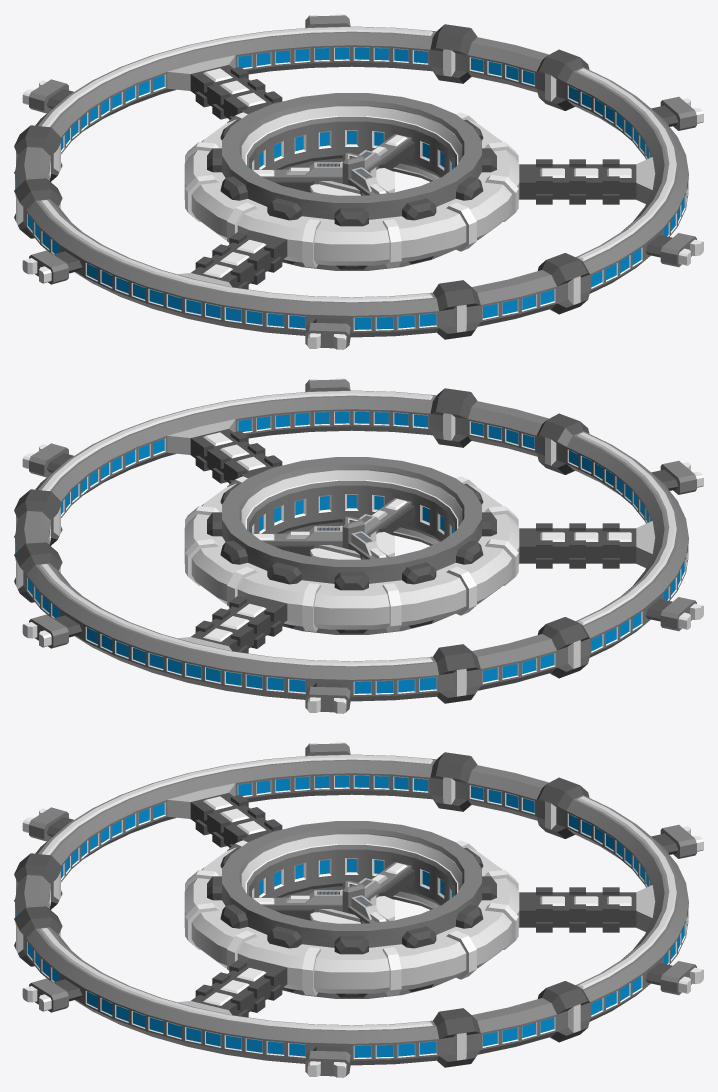
The model's file is space_ship.fbx.
3 views of the same model, one above another, from view 1: azimuth 30°, elevation 25°; view 2: azimuth 150°, elevation 25°; view 3: azimuth 270°, elevation 25° (orthographic).
Visible parts, largest first — view 1: Mesh_HD; view 2: Mesh_HD; view 3: Mesh_HD.
Boxes of the visible parts, box(x1,y1,x2,y2) form: Mesh_HD: box(14, 14, 703, 349); Mesh_HD: box(14, 378, 703, 713); Mesh_HD: box(14, 742, 703, 1077).
Size of the model in its own units: 2048 by 200 by 1842.
